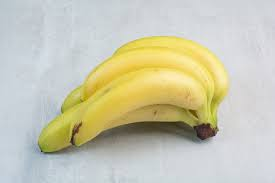banana: (35, 32, 231, 153)
